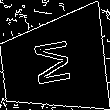M_W: (31, 37, 76, 91)
